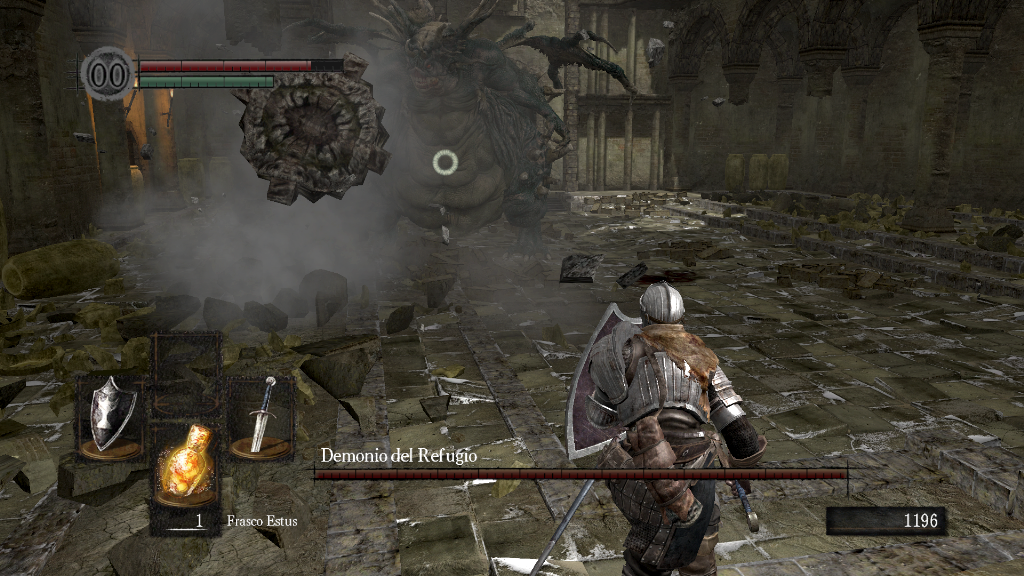asylumDemon: (225, 1, 647, 271)
bossHP: (314, 469, 847, 479)
health: (138, 58, 343, 71)
humanity: (80, 45, 136, 102)
player: (563, 278, 771, 576)
souls: (825, 506, 945, 536)
stamina: (138, 74, 274, 88)
